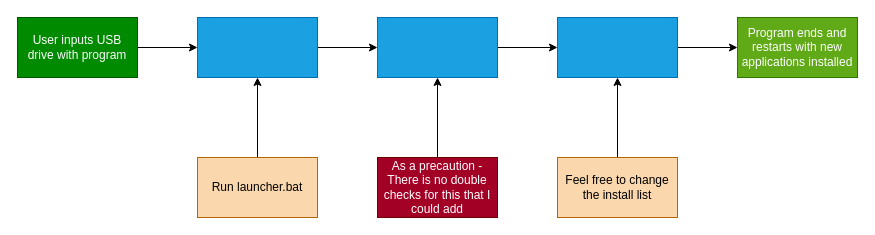
Image size: 875x235. Some labels were removed from this diagram. The shapes that lost their labels are listed below. From the top down, each one's centre as x and y in pixels, then its label:
At point (257, 47): "Program reads through the list of bloatware".
At point (437, 47): "Program uninstalls the bloatware list".
At point (617, 47): "Program installs the winget list".
